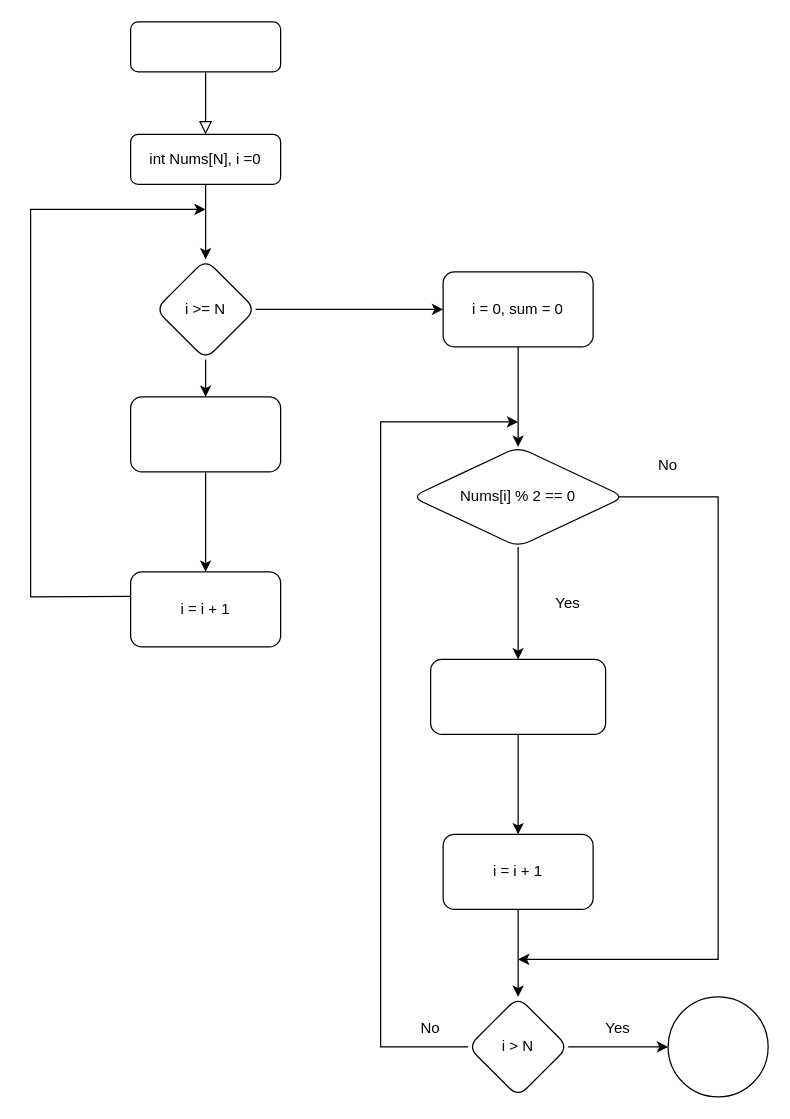
The diagram is 790 pixels wide and 1119 high, and some of its shapes have lost their labels. The box of each missing label's shape, as (x1, y1, x2, y2) in pixels:
Nhap N: (129, 21, 281, 72)
Nhap Nums[i]: (129, 396, 281, 472)
sum: (667, 996, 768, 1097)
sum = sum + Nums[i]: (429, 658, 606, 734)
